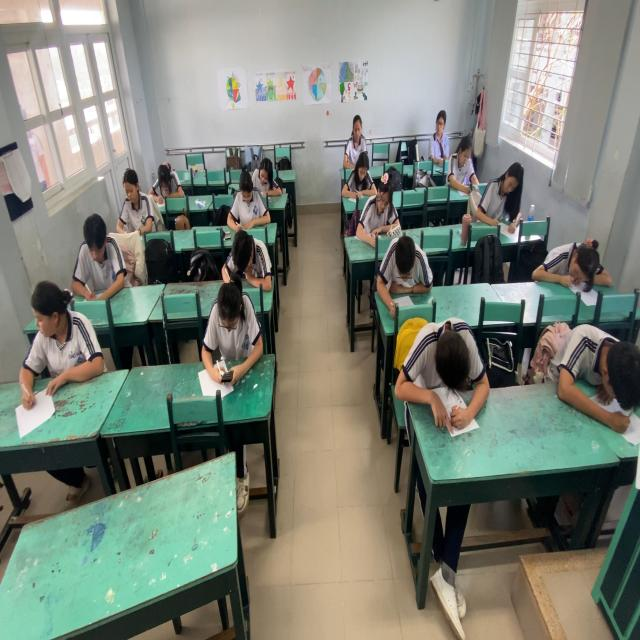cheating: (426, 109, 456, 163)
not_cheating: (538, 298, 640, 450), (393, 303, 489, 461), (11, 268, 90, 418), (192, 305, 261, 445), (536, 221, 614, 315), (62, 199, 121, 321), (377, 233, 437, 327), (213, 244, 270, 342), (470, 149, 525, 245), (349, 166, 399, 258), (107, 161, 156, 249), (219, 204, 264, 276), (441, 124, 483, 200), (142, 154, 180, 226), (344, 140, 383, 204), (336, 112, 377, 172), (230, 164, 268, 227), (252, 150, 286, 197)
